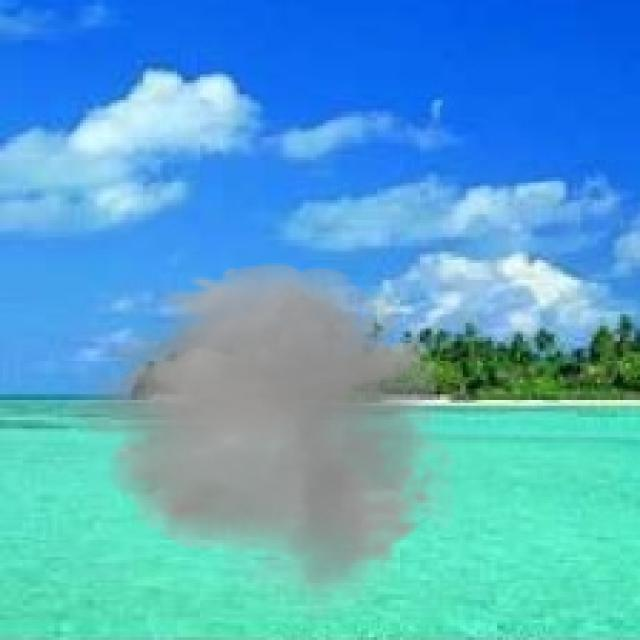Smoke: (57, 254, 474, 623)
